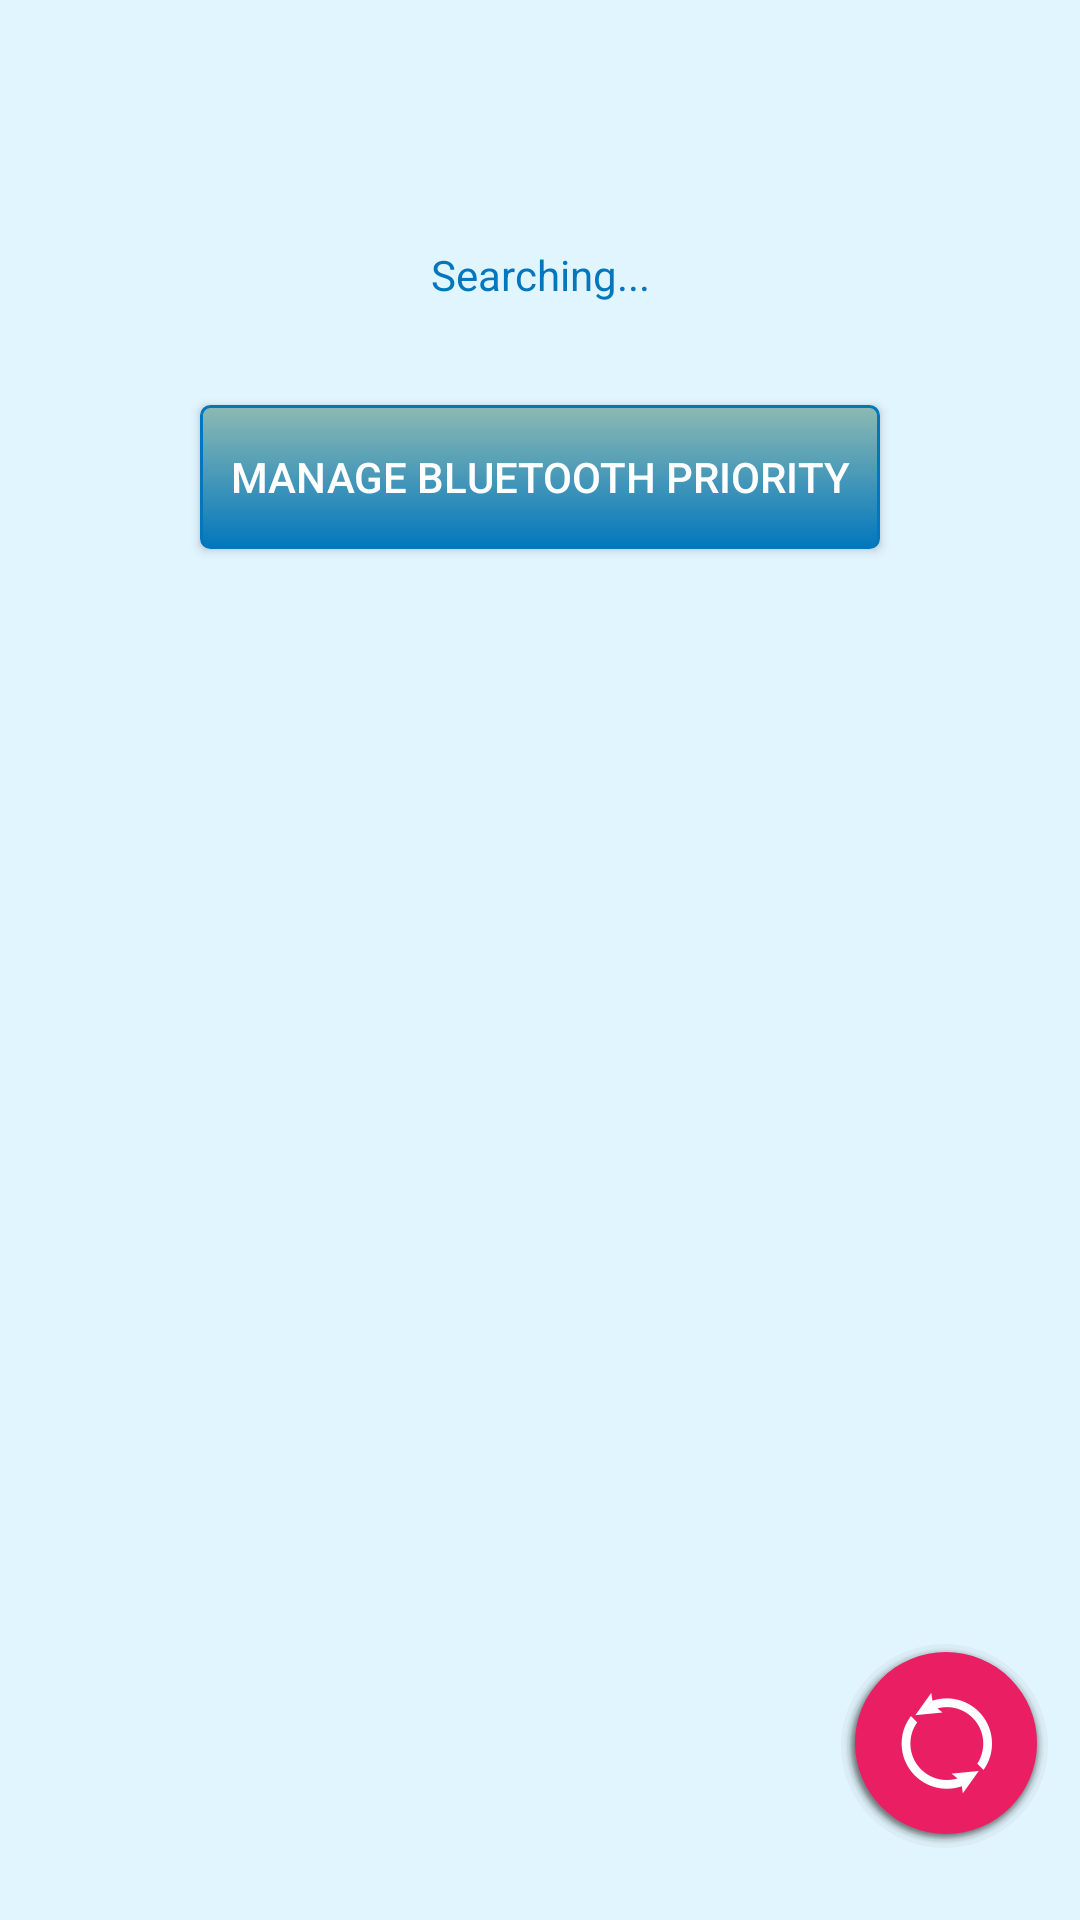

Point at icon controls on the screen. Image size 1080px x 1920px, points as [x,y].
fab: [944,1746]
